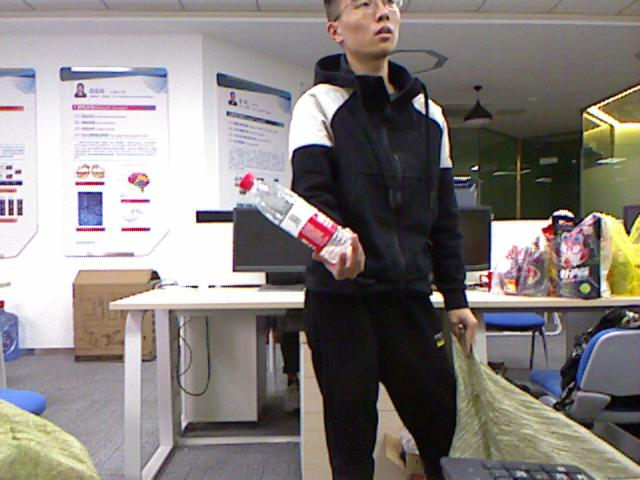cardboard paper: (74, 270, 158, 356)
plastic: (240, 173, 350, 263)
